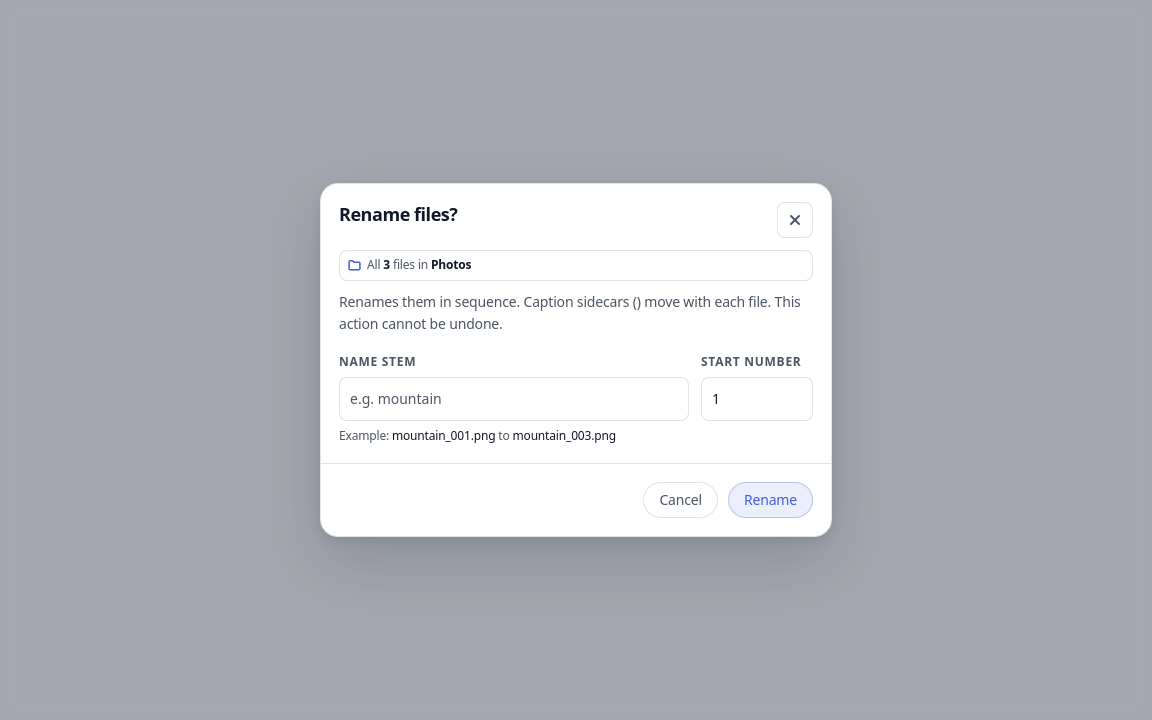
Scenario: BatchRenameDialog › previews the range the start number produces, padded to the highest number
In the field labelled "Name stem": {"x": 514, "y": 399} 339,377 -> 689,421, type "portugal"
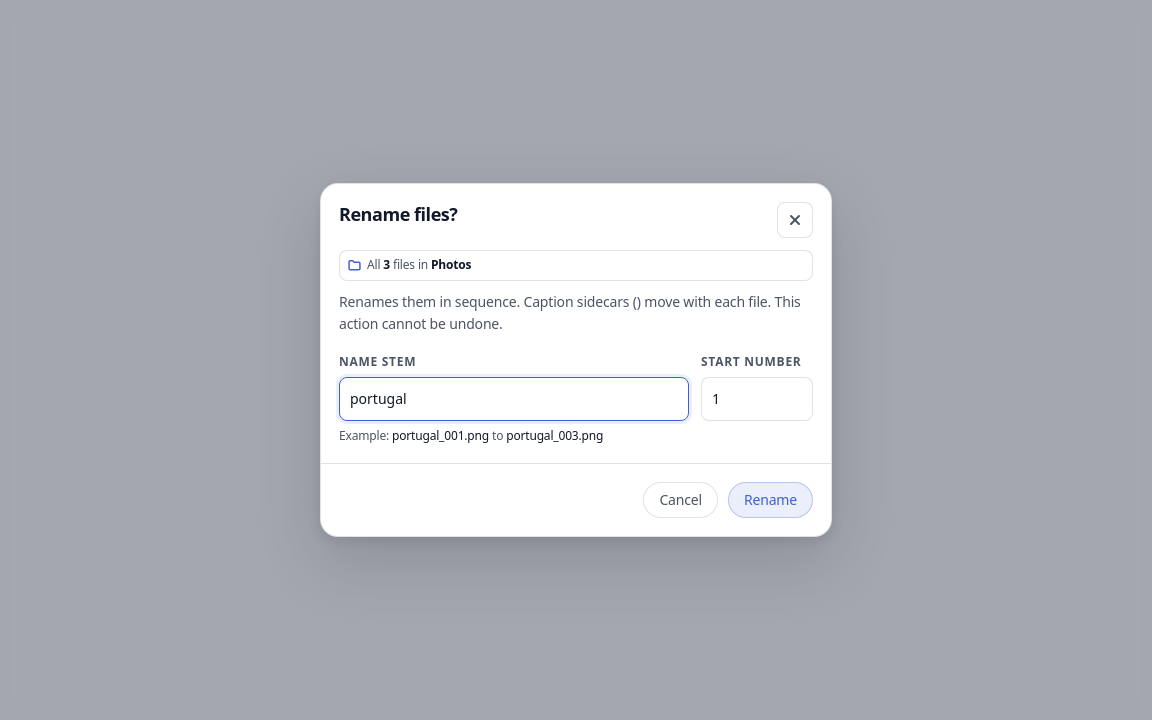
Replace the text in the number field labelled "Start number" with "999": {"x": 757, "y": 399} 701,377 -> 813,421
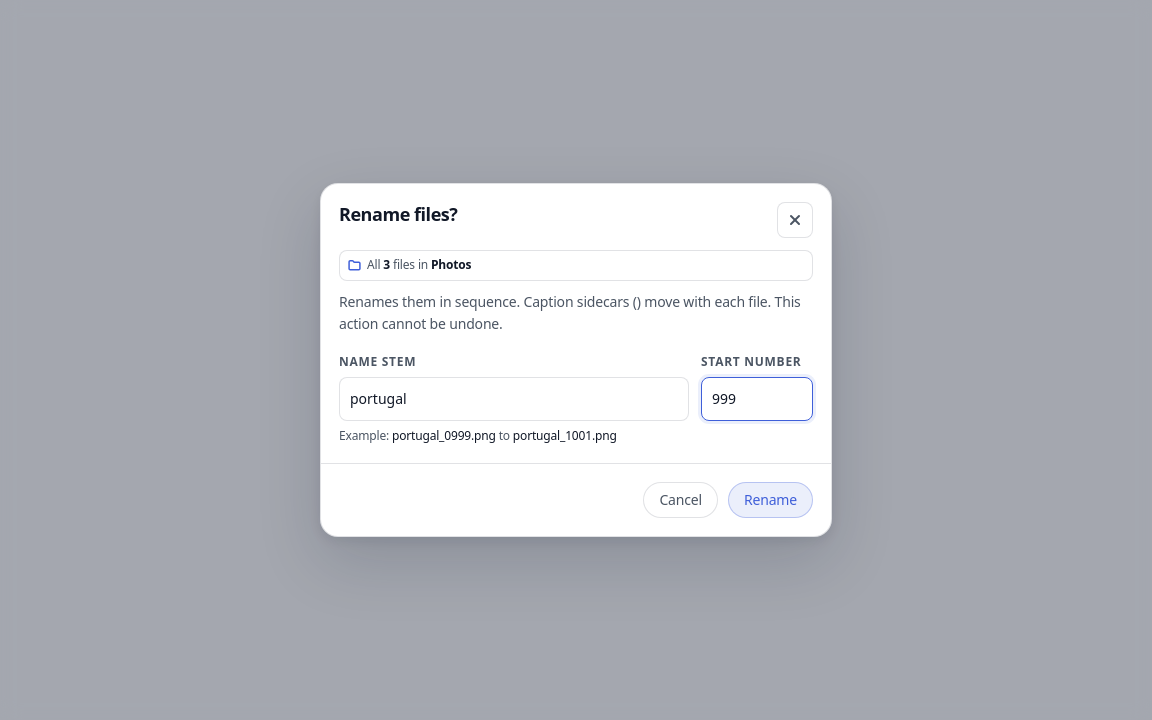
Result: the text "portugal_0999.png" is shown at 392,427 -> 496,444
Result: the text "portugal_1001.png" is shown at 513,427 -> 617,444
